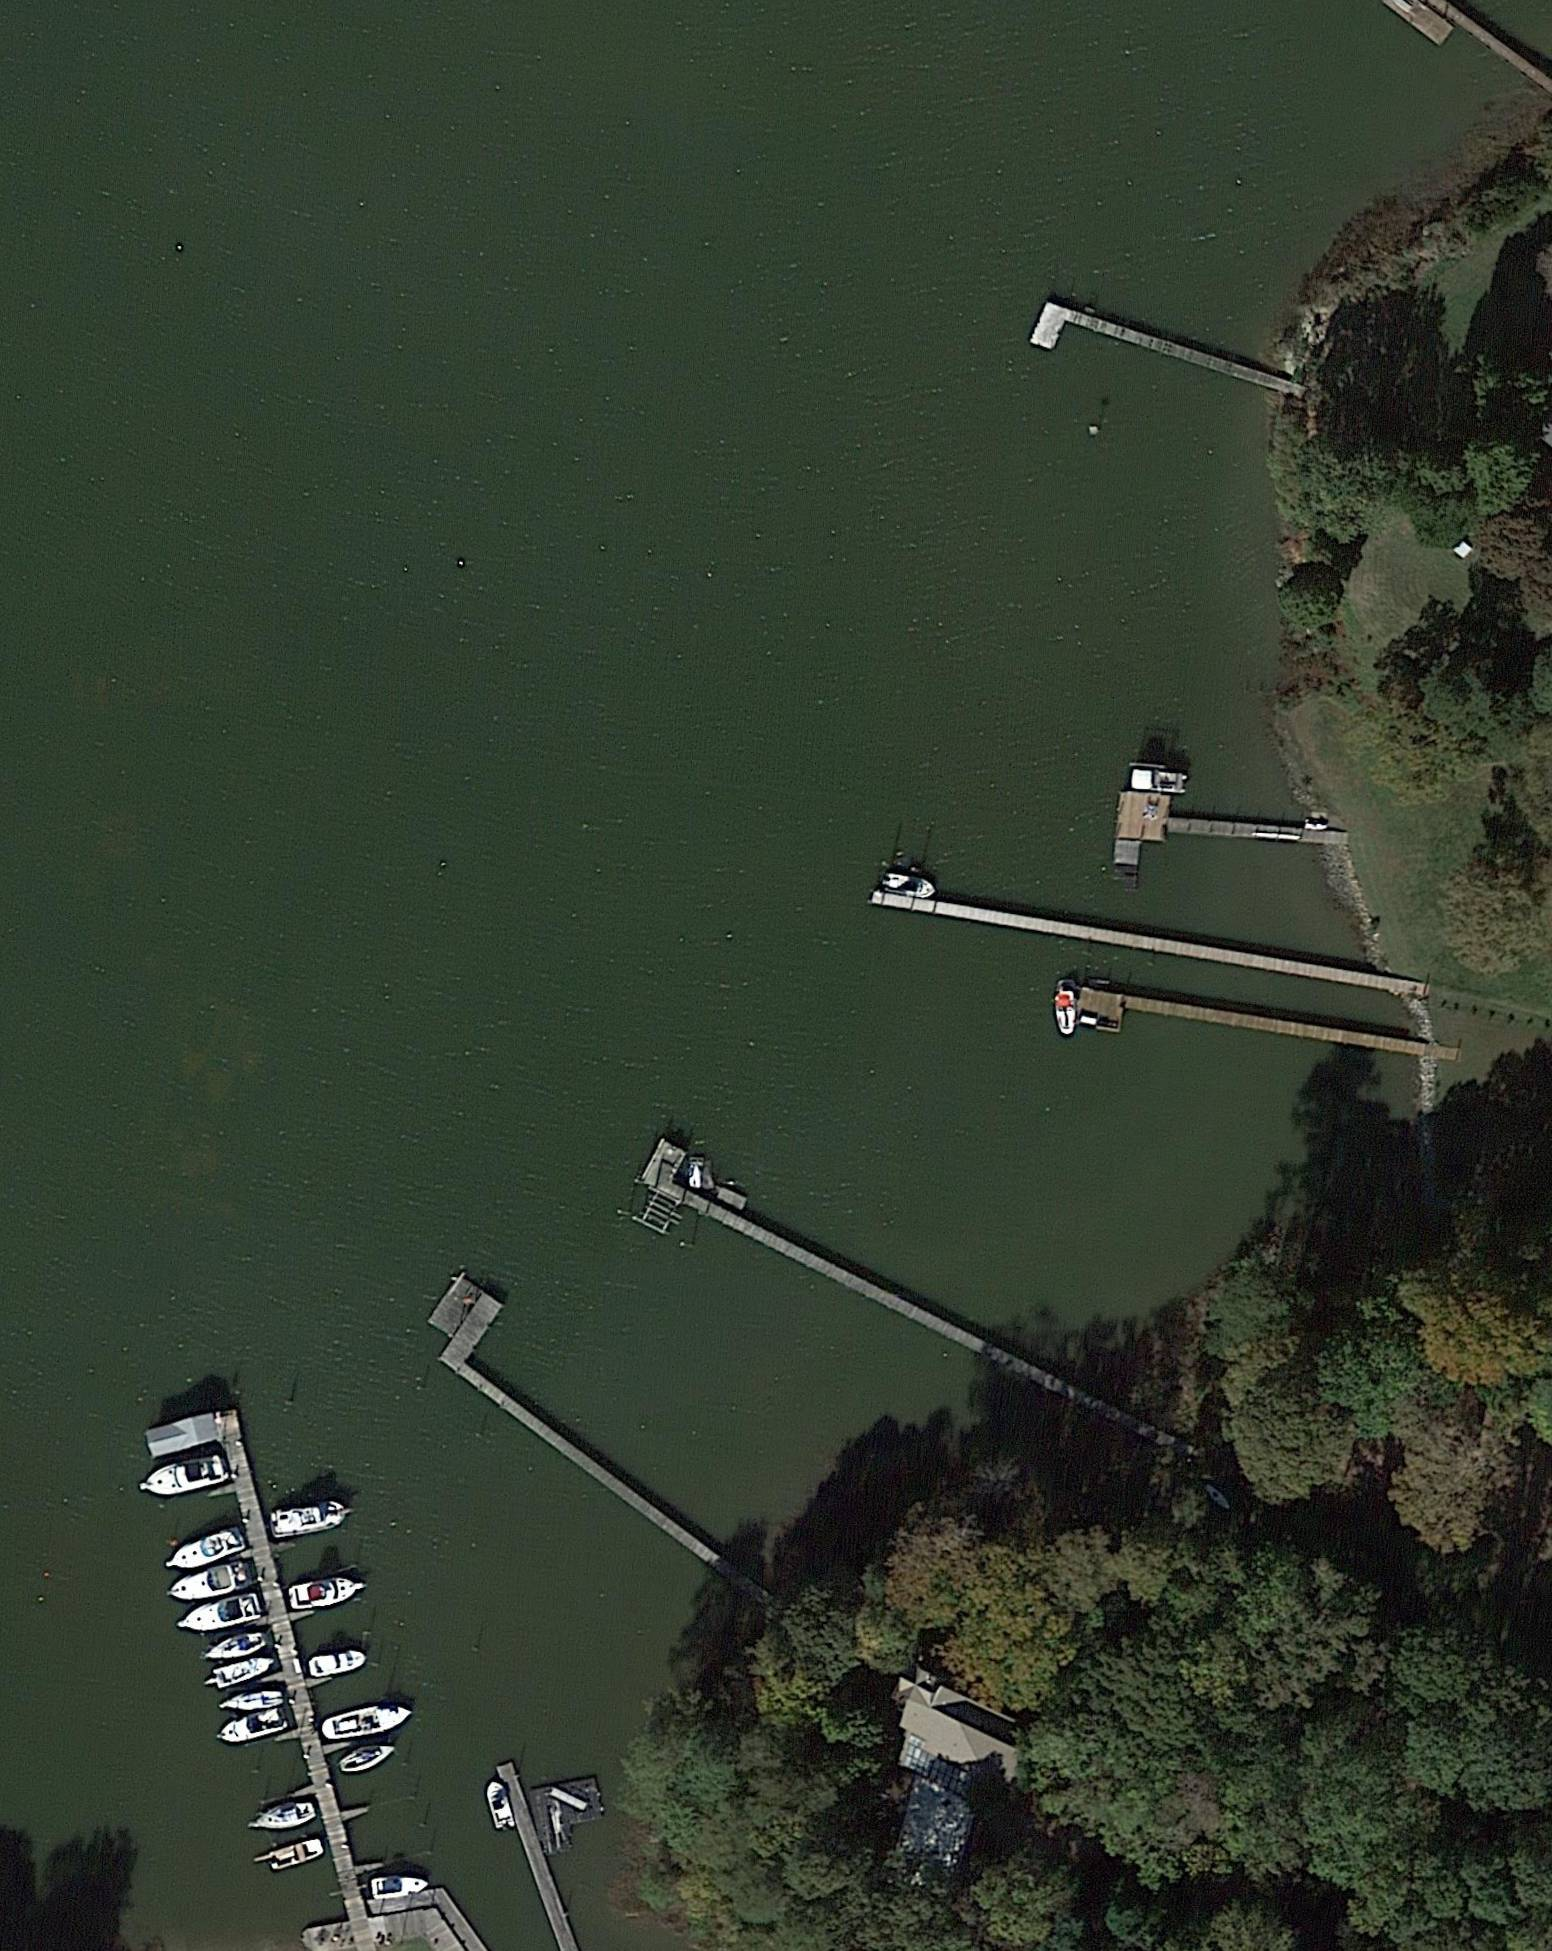harbor: (146, 1408, 371, 1940), (413, 1276, 755, 1568), (618, 1137, 1010, 1378), (869, 890, 1383, 990), (1074, 987, 1386, 1071), (1031, 299, 1256, 407), (493, 1758, 576, 1949), (1115, 790, 1299, 857)
ship: (131, 1454, 231, 1504), (160, 1525, 253, 1579), (171, 1588, 266, 1641), (165, 1560, 260, 1611), (318, 1699, 420, 1744), (200, 1649, 285, 1696), (212, 1702, 291, 1753), (268, 1500, 359, 1539), (242, 1794, 323, 1839), (249, 1832, 328, 1877), (287, 1573, 371, 1614), (336, 1736, 405, 1780), (203, 1626, 272, 1666), (306, 1649, 372, 1679), (876, 869, 941, 899), (219, 1687, 287, 1715), (364, 1872, 434, 1899), (481, 1778, 516, 1831), (1052, 975, 1078, 1036), (1128, 768, 1189, 793)
